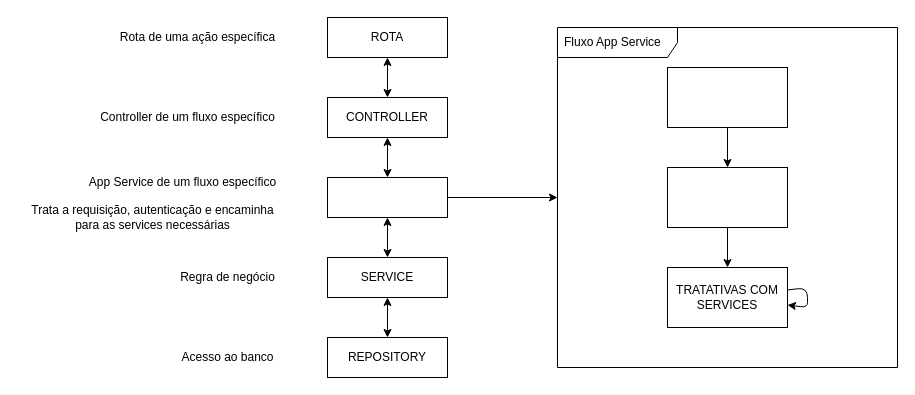
The diagram is 915 pixels wide and 395 high, and some of its shapes have lost their labels. Each missing label, with the centre of its shape:
"APP SERVICE" goes at (387,197).
"AUTENTICAÇÃO DE USUÁRIO OU SISTEMA" goes at (727,197).
"TRATAMENTO DA REQUISIÇÃO" goes at (727,97).
